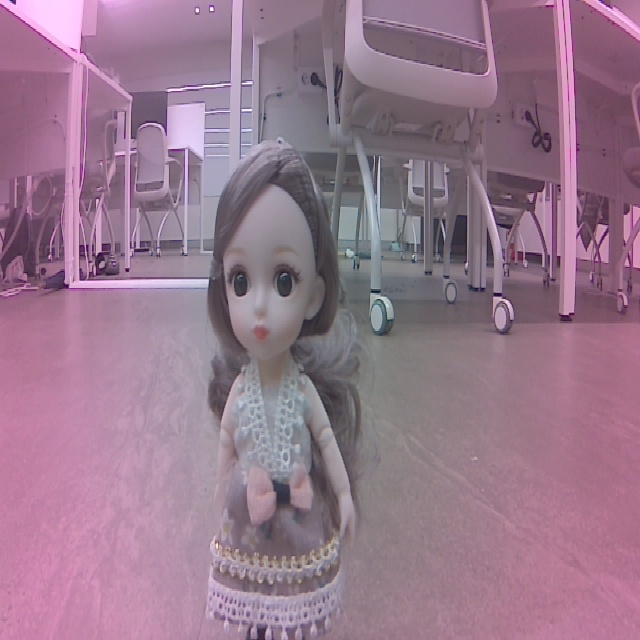장애물: (191, 135, 361, 640)
